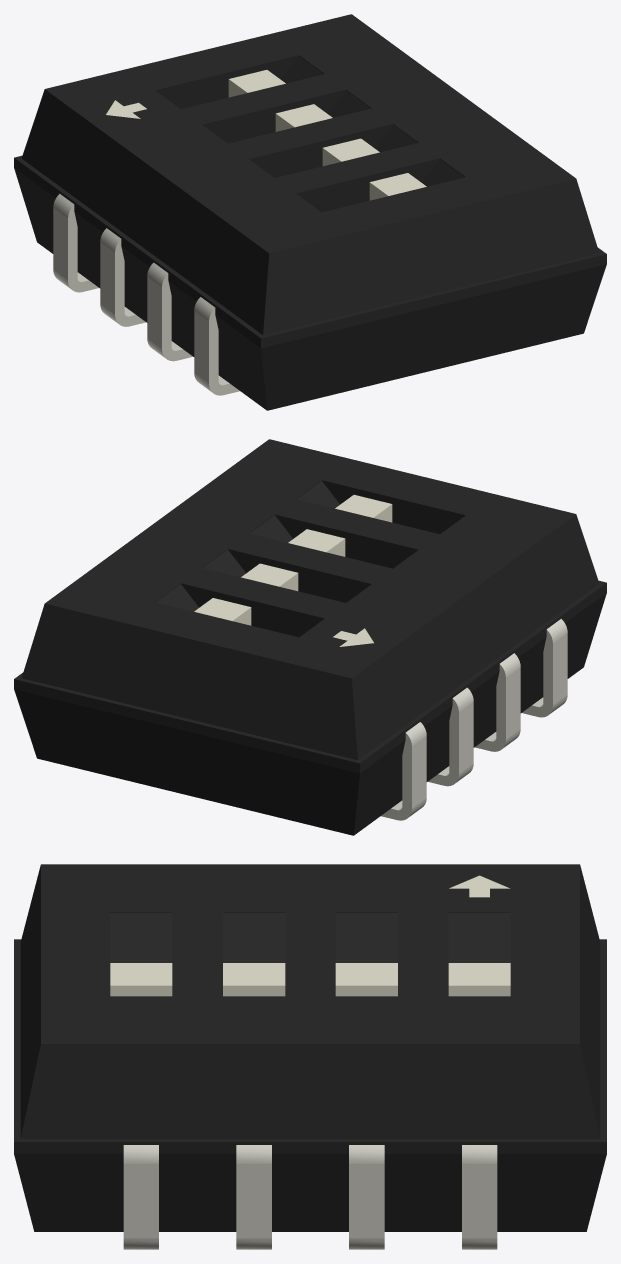
The model's file is kc-sw_dip_spstx04_slide_kingtek_dshp04tj_w5.25mm_p1.27mm_jpin.glb.
3 renders of one model, top to bottom at view 1: azimuth 30°, elevation 25°; view 2: azimuth 150°, elevation 25°; view 3: azimuth 270°, elevation 25°, orthographic. The views are drawn at different scales.
Parts seen in each view (by area): view 1: 0_0_0_0, 0.6666666666666666_0.6666666666666666_0.5833333333333334_0.8, 0.75_0.75_0.6666666666666666_0; view 2: 0_0_0_0, 0.6666666666666666_0.6666666666666666_0.5833333333333334_0.8, 0.75_0.75_0.6666666666666666_0; view 3: 0_0_0_0, 0.6666666666666666_0.6666666666666666_0.5833333333333334_0.8, 0.75_0.75_0.6666666666666666_0.
Boxes of the visible parts, bbox=[...] form: 0_0_0_0: bbox=[14, 14, 606, 410]; 0.6666666666666666_0.6666666666666666_0.5833333333333334_0.8: bbox=[53, 193, 239, 395]; 0.75_0.75_0.6666666666666666_0: bbox=[106, 70, 426, 200]; 0_0_0_0: bbox=[14, 439, 606, 835]; 0.6666666666666666_0.6666666666666666_0.5833333333333334_0.8: bbox=[381, 618, 567, 820]; 0.75_0.75_0.6666666666666666_0: bbox=[194, 495, 392, 646]; 0_0_0_0: bbox=[14, 864, 606, 1231]; 0.6666666666666666_0.6666666666666666_0.5833333333333334_0.8: bbox=[123, 1145, 497, 1249]; 0.75_0.75_0.6666666666666666_0: bbox=[110, 875, 510, 996].
Size of the model in its own units: 0.56 by 0.245 by 0.668.
